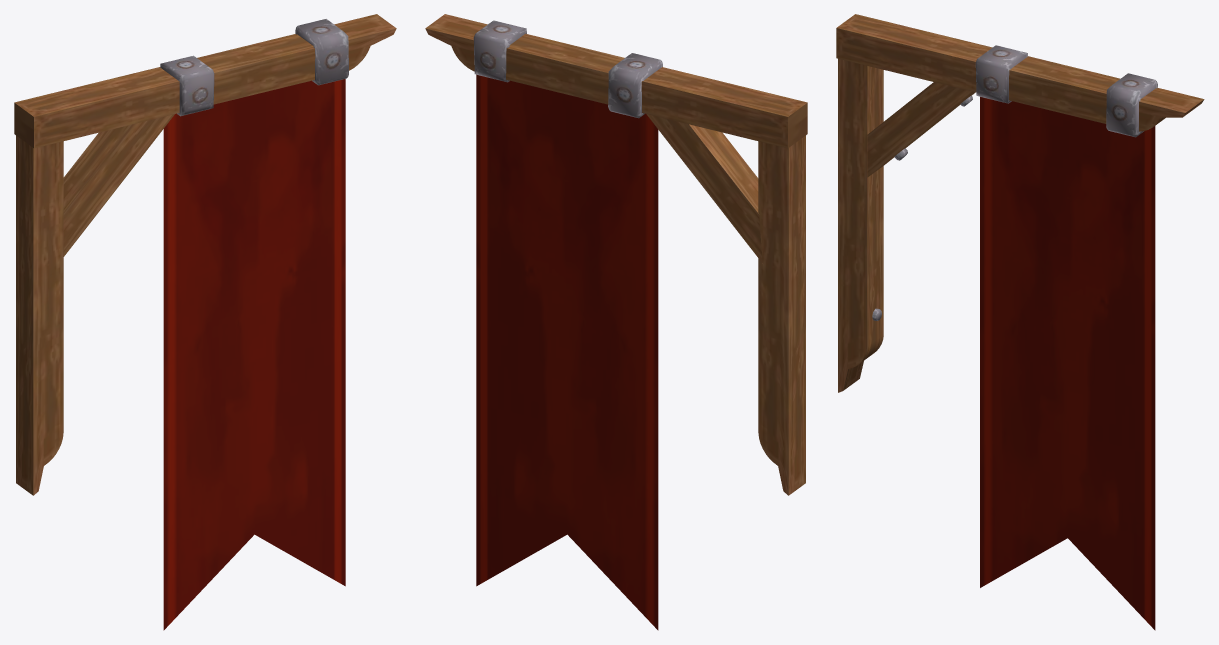
The model's file is Banner_1.glb.
The picture shows the model from 3 angles, left to right: view 1: azimuth 30°, elevation 25°; view 2: azimuth 150°, elevation 25°; view 3: azimuth 330°, elevation 25°; orthographic projection. The views are drawn at different scales.
Visible parts, largest first — view 1: Banner_1; view 2: Banner_1; view 3: Banner_1.
Part boxes in pixels (x1,y1,x2,y2): Banner_1: [14, 14, 396, 630]; Banner_1: [425, 14, 807, 630]; Banner_1: [836, 14, 1204, 630].
Size of the model in its own units: 1.61 by 2.39 by 0.1907.
Materials: 3 (3 with a texture image).
